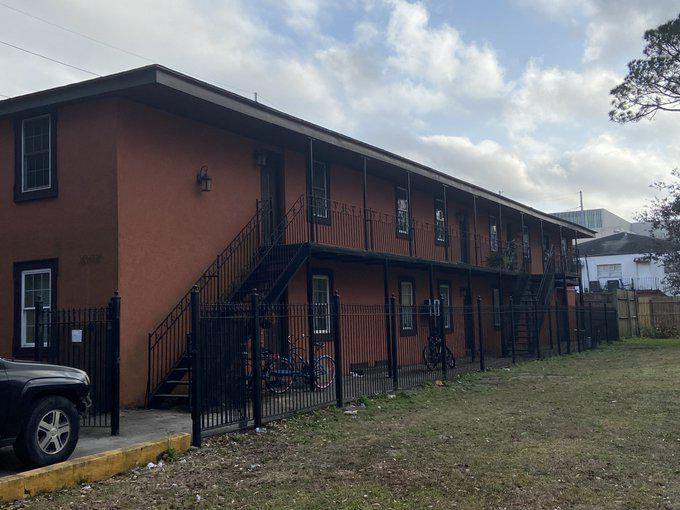affected: (2, 59, 606, 431)
